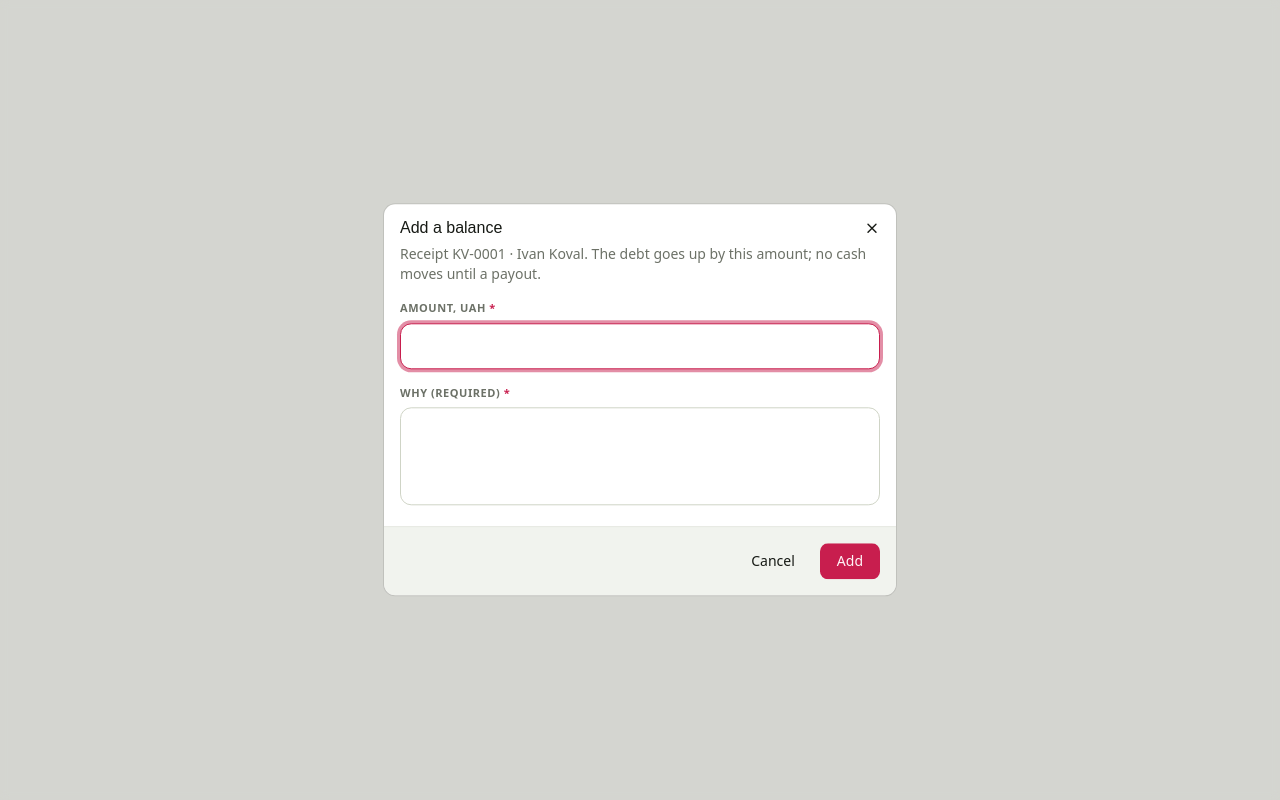
Test: TopUpDialog › refuses a zero amount
Type "0" into the field labelled "Amount, UAH".
click(640, 346); type("0")  # box [400,323,880,369]
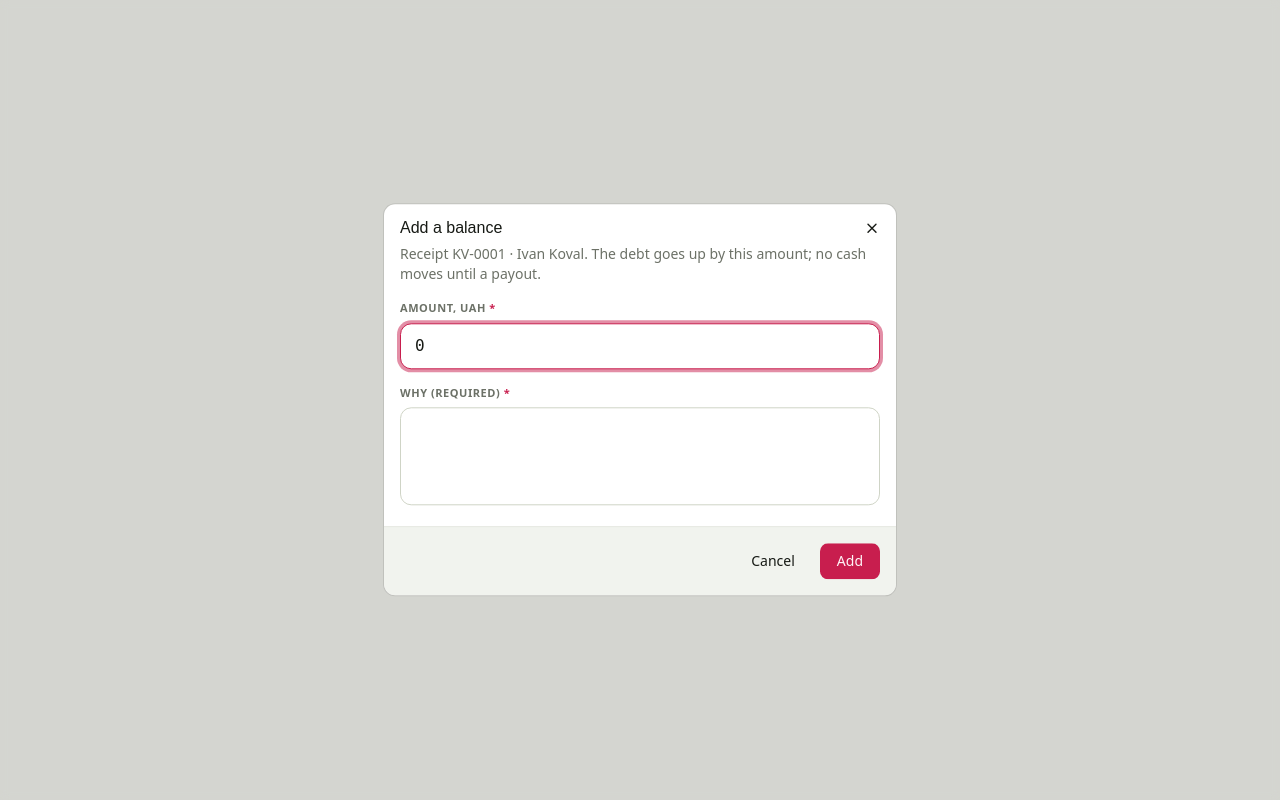
Type "Доплата" into the text box labelled "Why (required)".
click(640, 457); type("Доплата")  # box [400,408,880,506]
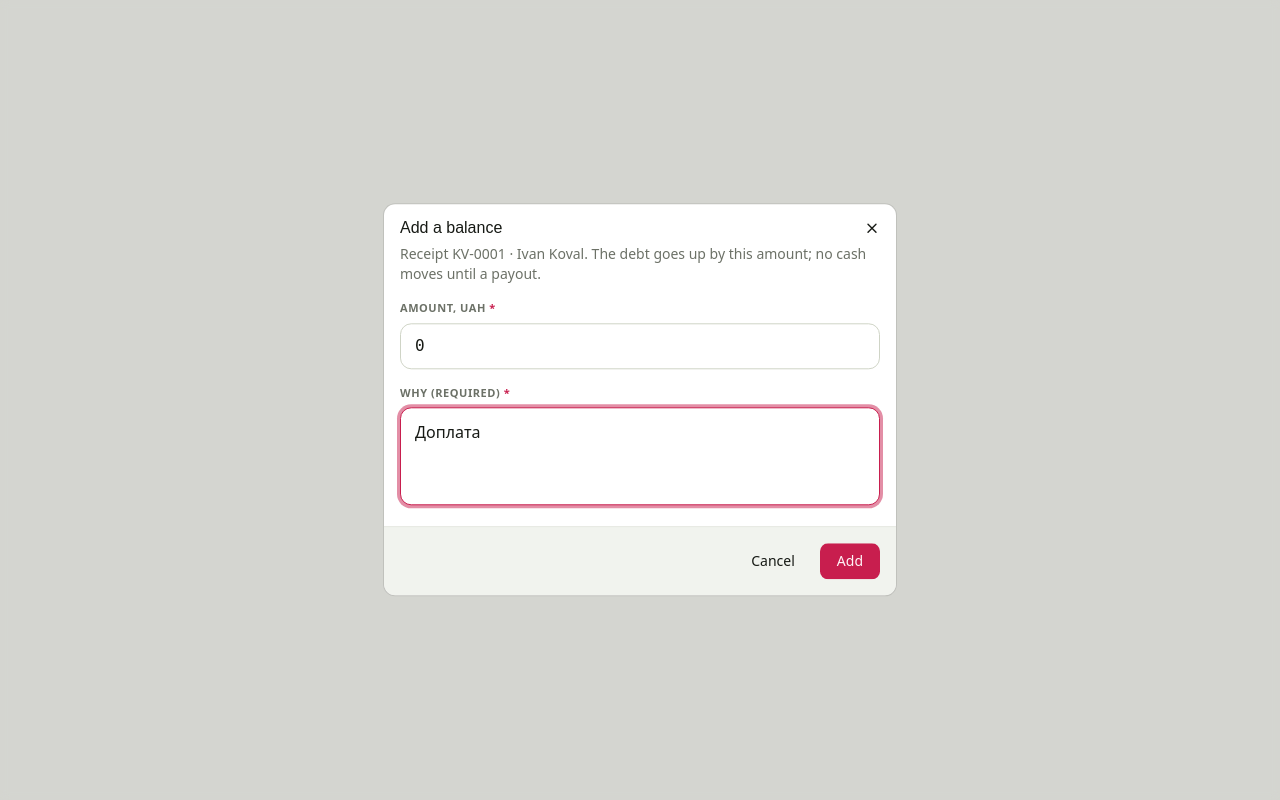
Click the button "Add".
click(850, 562)  # box [820,544,880,580]
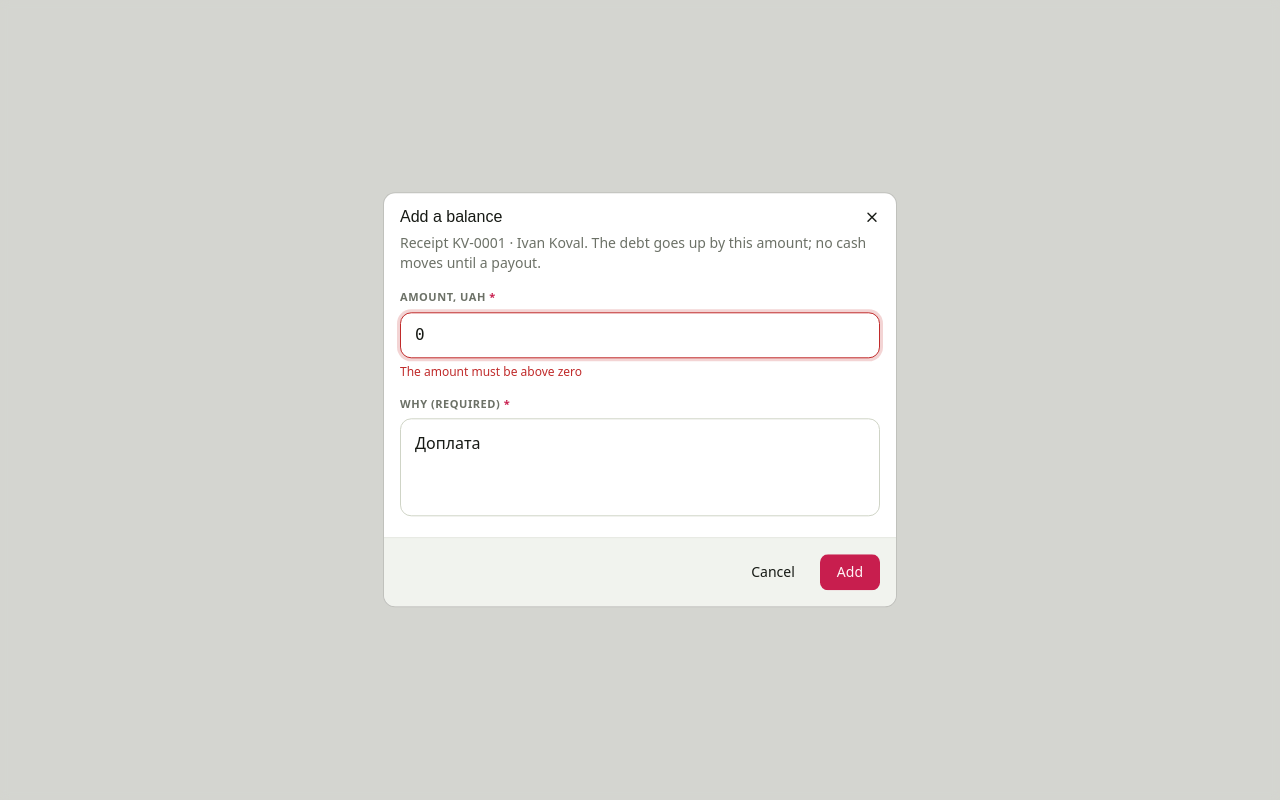
Now the text "The amount must be above zero" is shown, box [400,363,582,380]
